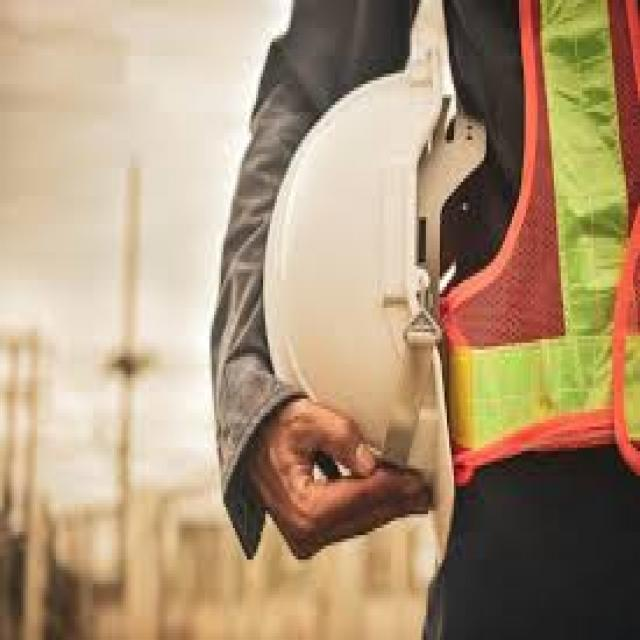Reflective-Jacket: (246, 14, 488, 540)
Safety-Helmet: (249, 21, 640, 493)
